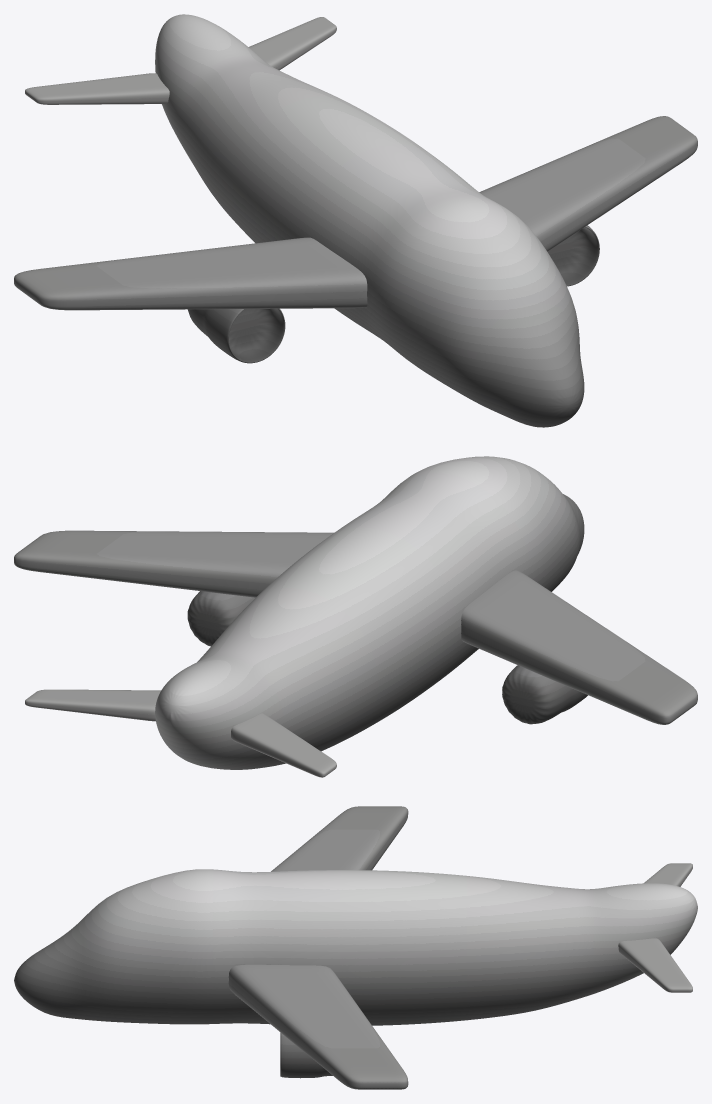
File: avion.fbx
The picture shows the model from 3 angles, top to bottom: view 1: azimuth 30°, elevation 25°; view 2: azimuth 150°, elevation 25°; view 3: azimuth 270°, elevation 25°; orthographic projection. The views are drawn at different scales.
Parts seen in each view (by area): view 1: polySurface7; view 2: polySurface7; view 3: polySurface7.
Boxes of the visible parts, left/top/right/bottom form: polySurface7: left=14, top=14, right=697, bottom=427; polySurface7: left=14, top=456, right=697, bottom=777; polySurface7: left=14, top=806, right=697, bottom=1089.
Size of the model in its own units: 20.37 by 4.91 by 21.38.
